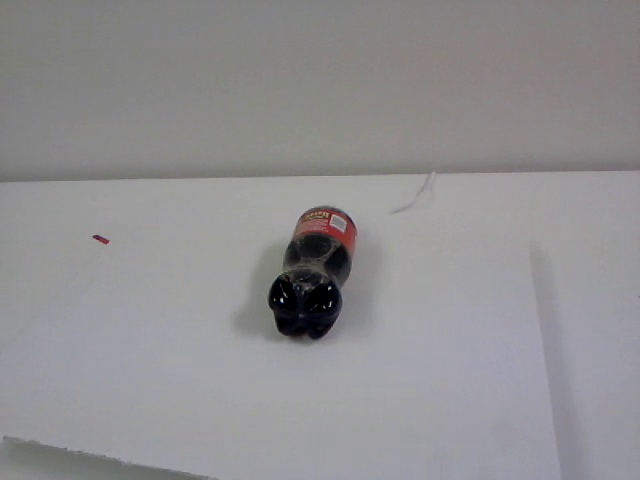botolplastik: (267, 206, 359, 339)
